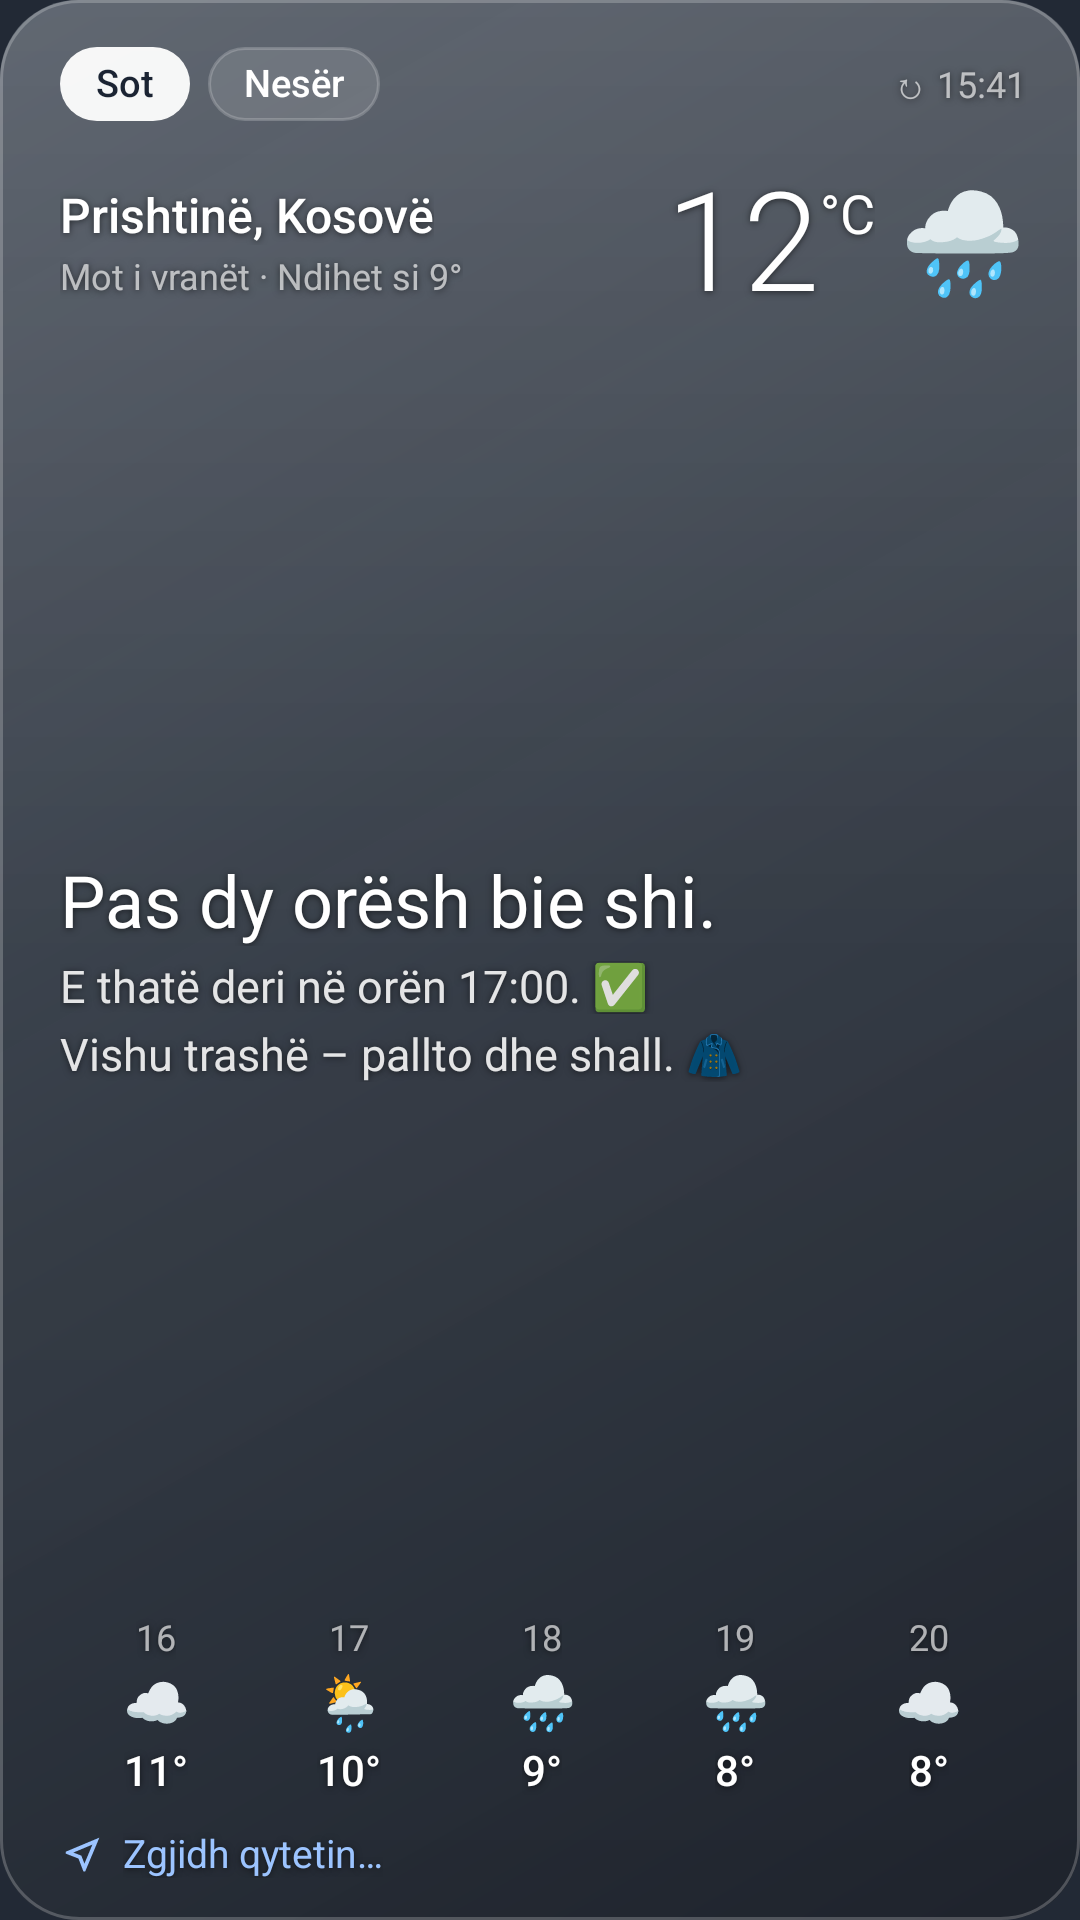

Where icons sit on this 1080×1920 app screen, as (left=x1, top=y1, right=x2, bottom=y2):
nav: (left=65, top=1838, right=99, bottom=1872)
